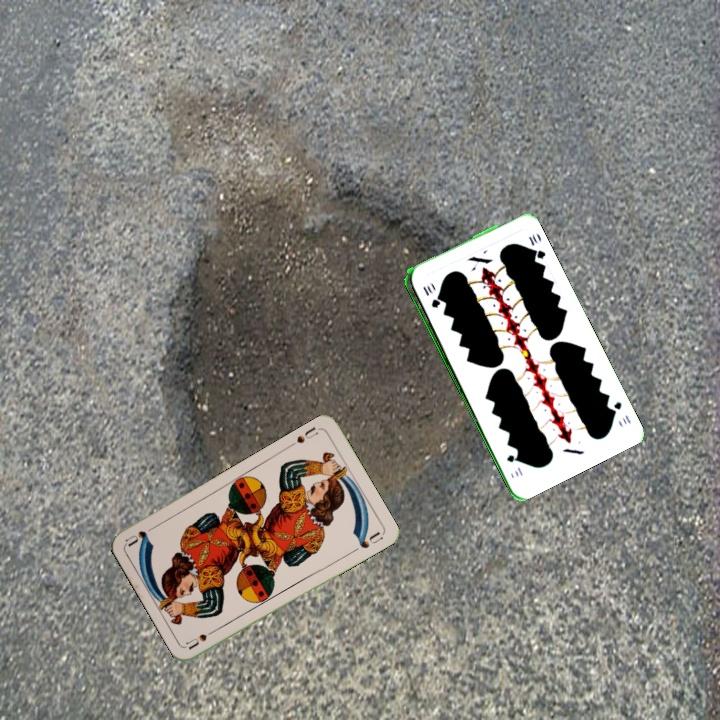G10: (606, 397, 633, 427), (419, 282, 441, 311)
SU: (182, 624, 221, 652), (286, 422, 321, 450)
